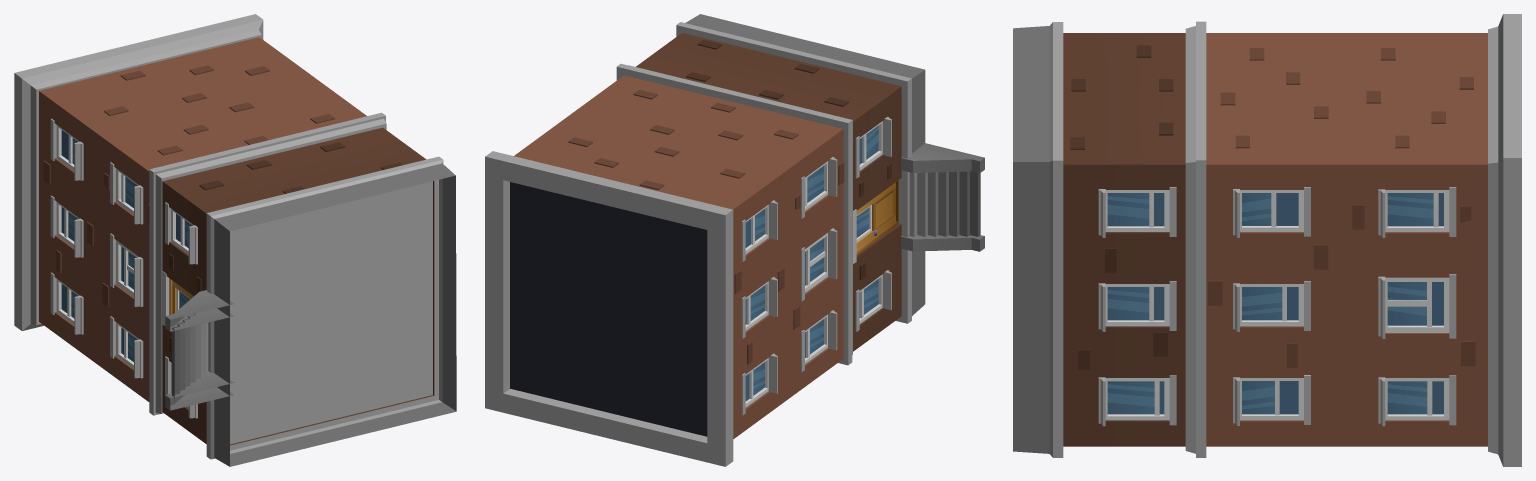
The model's file is Building_2_7_D.glb.
3 renders of one model, left to right at view 1: azimuth 30°, elevation 25°; view 2: azimuth 150°, elevation 25°; view 3: azimuth 270°, elevation 25°, orthographic. The views are drawn at different scales.
Parts seen in each view (by area): view 1: Building_2_7_D; view 2: Building_2_7_D; view 3: Building_2_7_D.
Boxes of the visible parts, x1=… form: Building_2_7_D: x1=14, y1=14, x2=456, y2=466; Building_2_7_D: x1=485, y1=14, x2=984, y2=466; Building_2_7_D: x1=1013, y1=14, x2=1521, y2=466.
Size of the model in its own units: 7.54 by 6.2 by 9.26.
3 materials, 3 textured.
